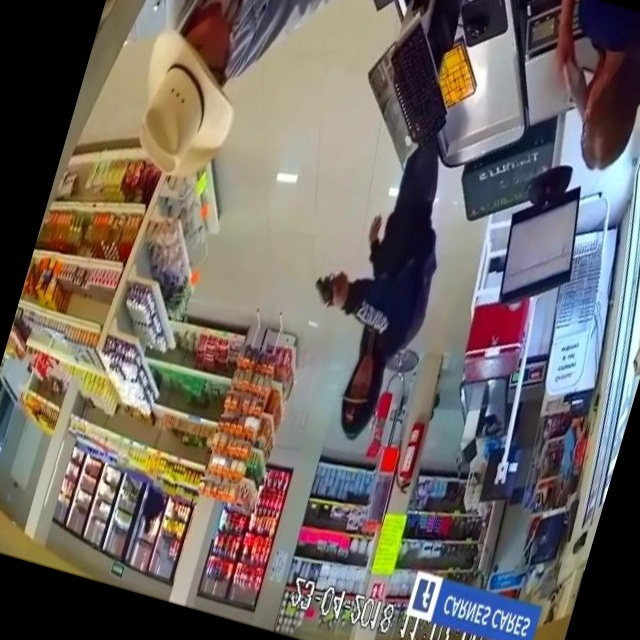gun: (298, 242, 356, 328)
